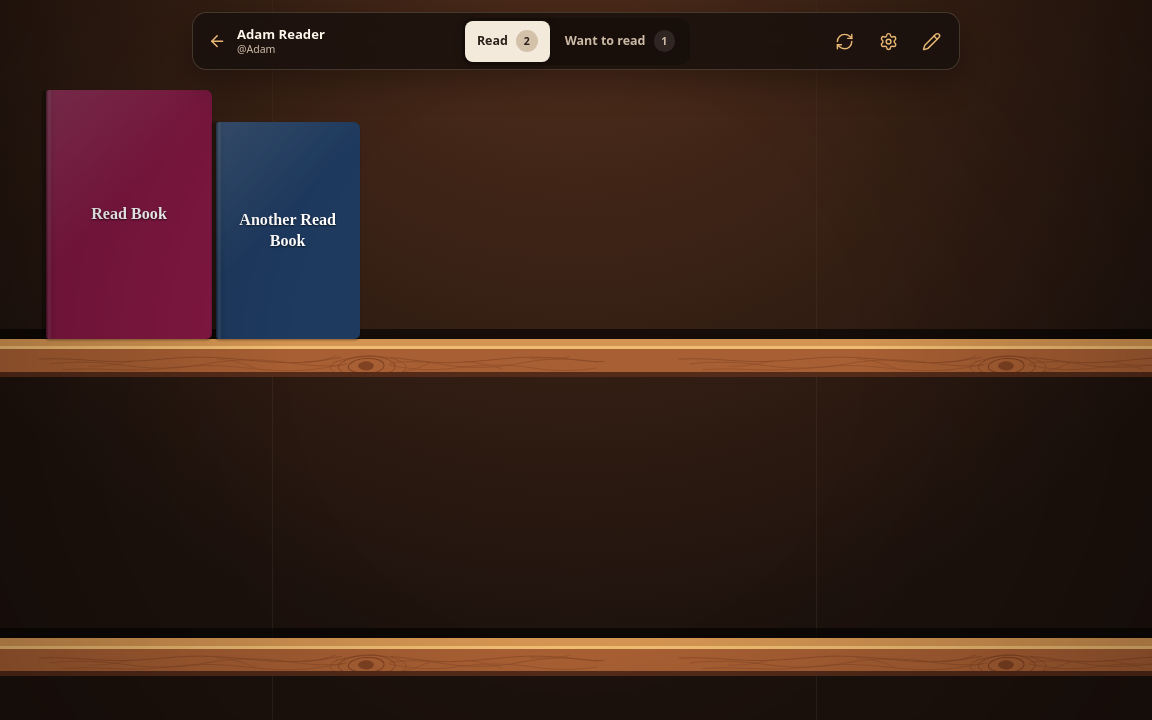
Test: ShelfView › retains the last good shelf and shows a safe refresh failure
Click the button named "Refresh shelf" at (845, 41), box x1=825 y1=21 x2=865 y2=62
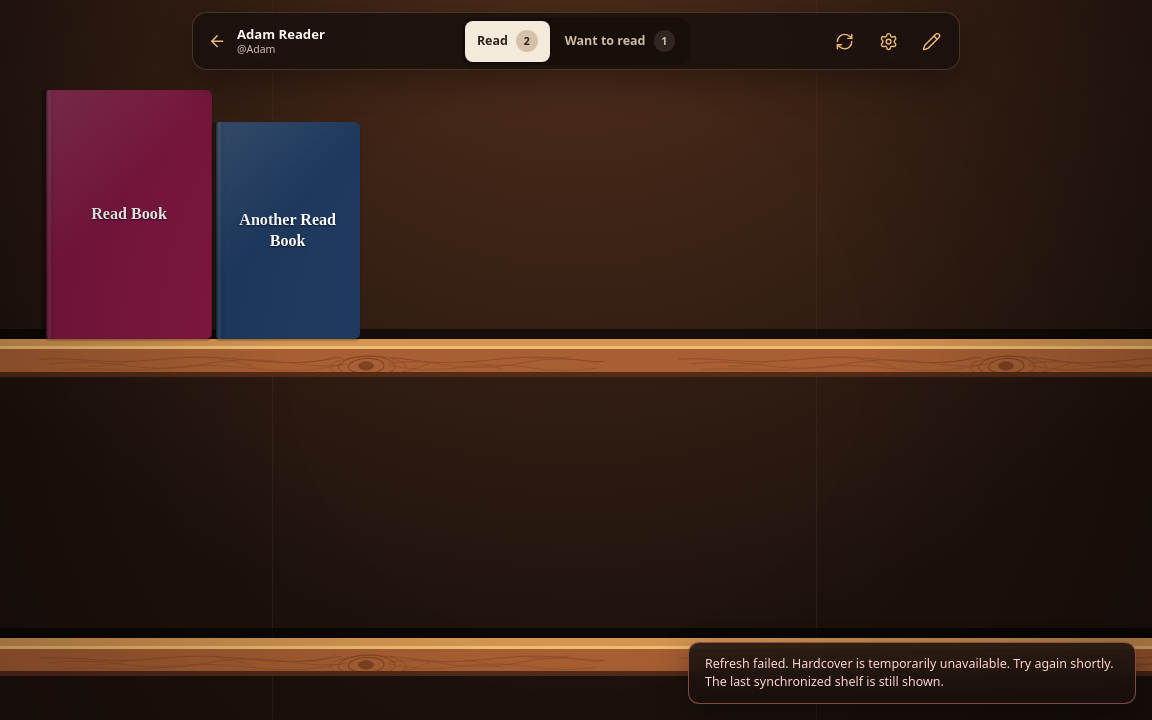
Expected: the list item with aria-label "Read Book by First Author, Second Author" is shown, x1=46 y1=77 x2=212 y2=376
Expected: the message shows "Refresh failed. Hardcover is temporarily unavailable. Try again shortly. The last synchronized shelf is still shown.", x1=705 y1=655 x2=1114 y2=690
